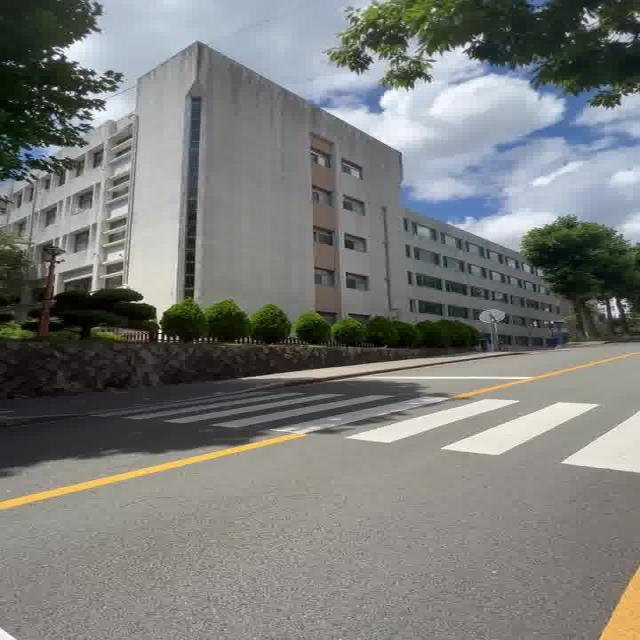building: (98, 84, 498, 317)
